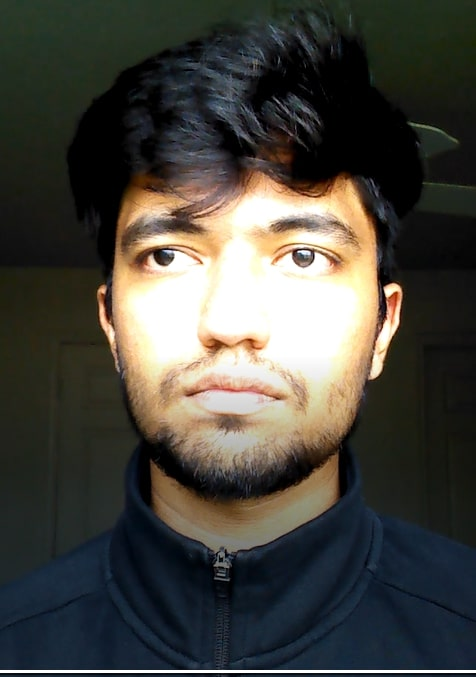Not Sleeping: (107, 206, 380, 299)
